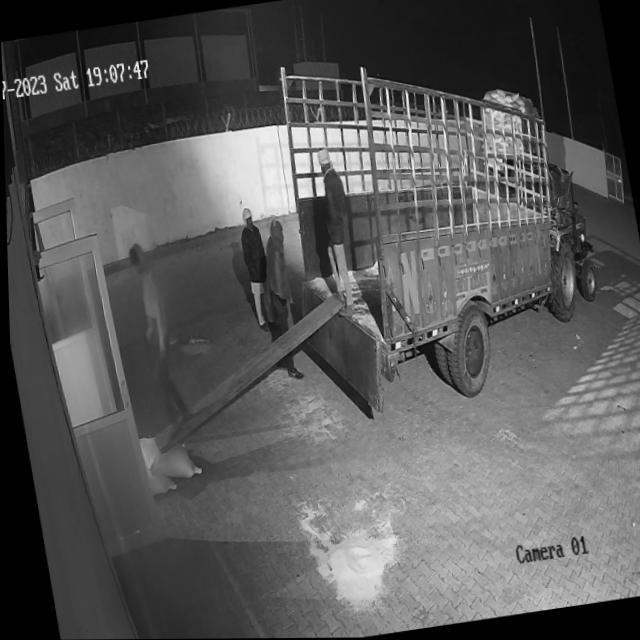sack: (137, 430, 200, 484)
